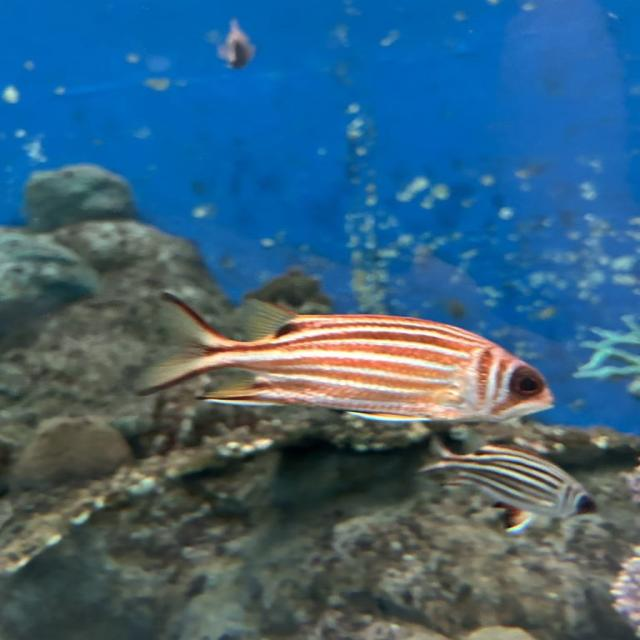Asker Baligi: (120, 284, 580, 430)
